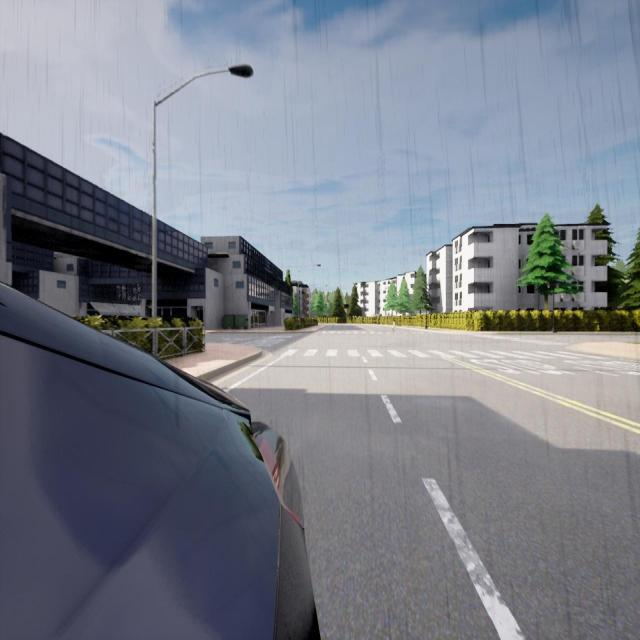Pedestrian: (392, 321, 396, 334)
Vehicle: (0, 284, 318, 638)
